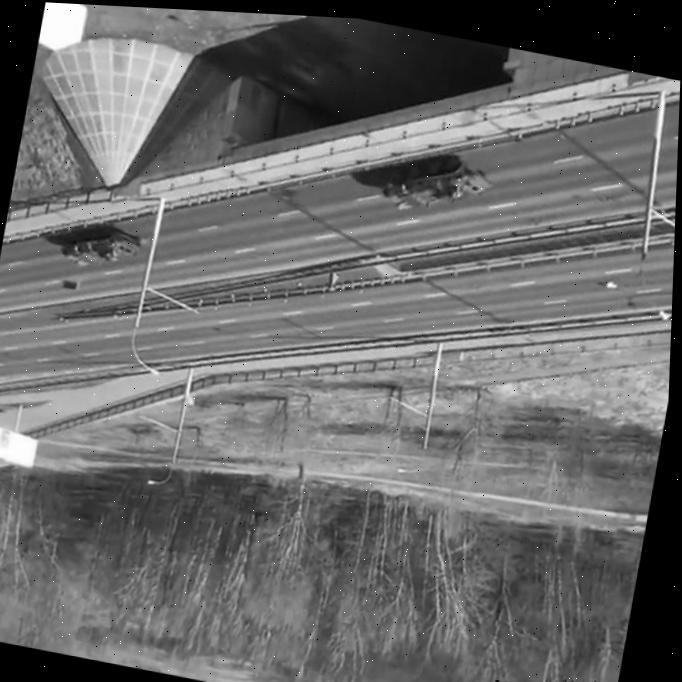tank: (364, 132, 499, 235), (55, 208, 148, 293)
